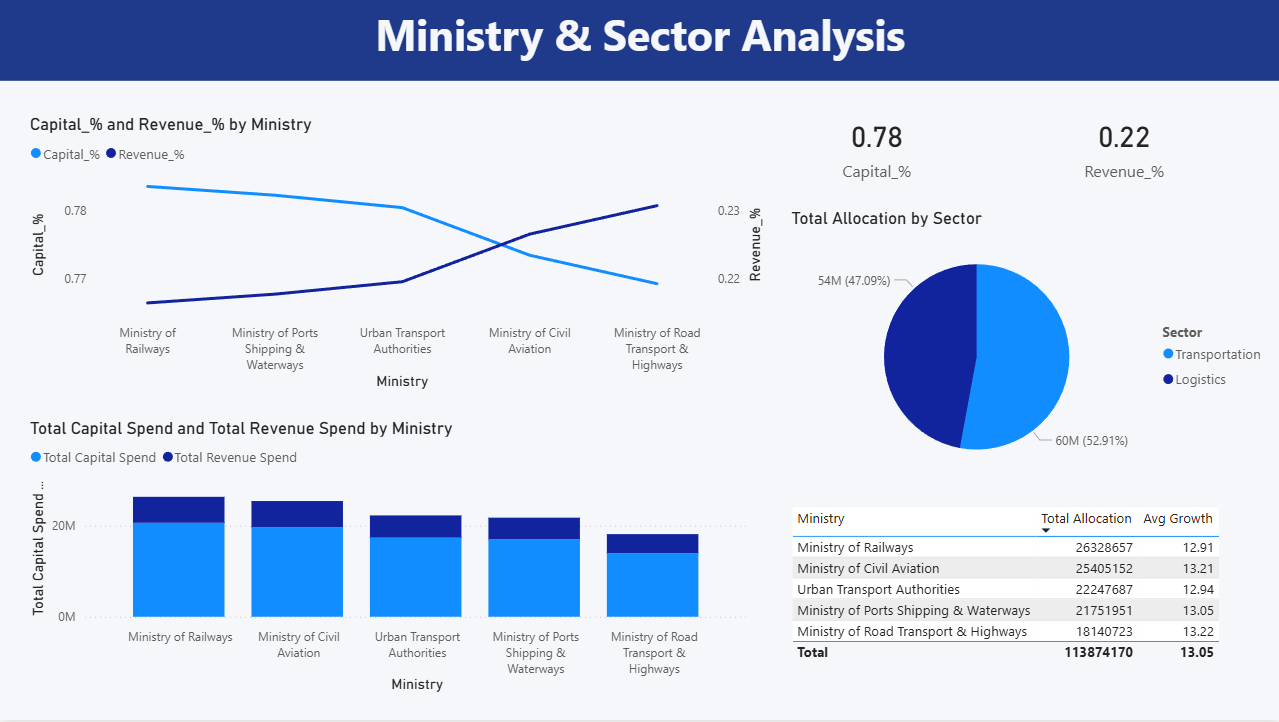

This screenshot's page, from the dashboard's own definition file:
{"tool":"powerbi","page":{"name":"Page 2","canvas":[1280,720],"ordinal":1},"visuals":[{"type":"pieChart","fields":{"Category":["Transport_Logistics_Budget.Sector"],"Y":["Transport_Logistics_Budget.Total Allocation"]},"box":[786.2,207.7,489.2,280],"z":0},{"type":"columnChart","fields":{"Y":["Transport_Logistics_Budget.Total Capital Spend","Transport_Logistics_Budget.Total Revenue Spend"],"Category":["Transport_Logistics_Budget.Ministry"]},"box":[24.6,416.9,729.2,280],"z":1000},{"type":"tableEx","fields":{"Values":["Transport_Logistics_Budget.Ministry","Transport_Logistics_Budget.Total Allocation","Transport_Logistics_Budget.Avg Growth"]},"box":[786.2,503.1,475.4,193.8],"z":2000},{"type":"card","fields":{"Values":["Transport_Logistics_Budget.Capital_%"]},"box":[786.2,93.8,181.5,104.6],"z":3000},{"type":"card","fields":{"Values":["Transport_Logistics_Budget.Revenue_%"]},"box":[1030.8,93.8,186.2,104.6],"z":4000},{"type":"lineChart","fields":{"Y":["Transport_Logistics_Budget.Capital_%"],"Category":["Transport_Logistics_Budget.Ministry"],"Y2":["Transport_Logistics_Budget.Revenue_%"]},"box":[24.6,113.8,743.1,280],"z":5000},{"type":"textbox","box":[0,0,1280.3,81],"z":6000}]}

Visuals, with their boxes in screenshot pixels (x1, y1, x2, y2), scaled from the page's 1280x720 canvas onto the 1279x722 screenshot:
pieChart - Transport_Logistics_Budget.Sector x Transport_Logistics_Budget.Total Allocation: [x1=786, y1=208, x2=1274, y2=489]
columnChart - Transport_Logistics_Budget.Total Capital Spend x Transport_Logistics_Budget.Total Revenue Spend: [x1=25, y1=418, x2=753, y2=699]
tableEx - Transport_Logistics_Budget.Ministry x Transport_Logistics_Budget.Total Allocation: [x1=786, y1=504, x2=1261, y2=699]
card - Transport_Logistics_Budget.Capital_%: [x1=786, y1=94, x2=967, y2=199]
card - Transport_Logistics_Budget.Revenue_%: [x1=1030, y1=94, x2=1216, y2=199]
lineChart - Transport_Logistics_Budget.Capital_% x Transport_Logistics_Budget.Ministry: [x1=25, y1=114, x2=767, y2=395]
textbox: [x1=0, y1=0, x2=1278, y2=81]
